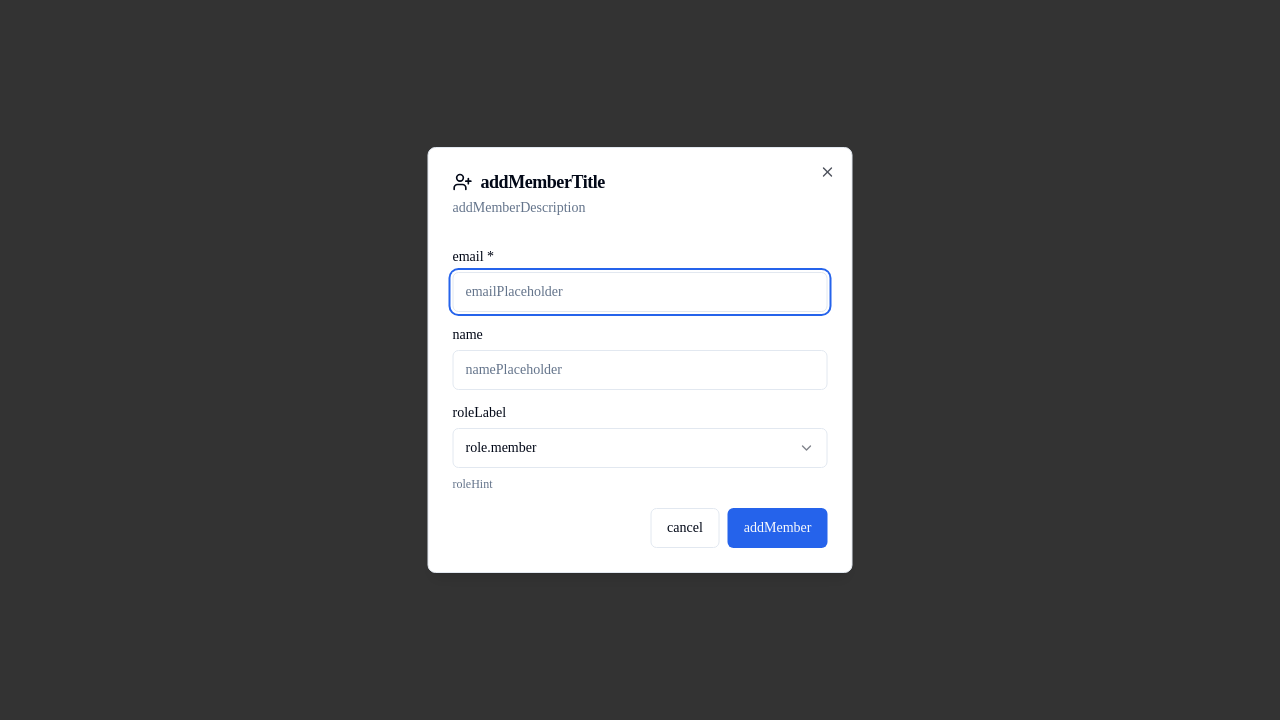
Scenario: AddMemberDialog › Form Validation › should show error for invalid email format
The image size is (1280, 720).
Type "invalid-email" into the field labelled "email *".
click(640, 292); type("invalid-email")  # box [452, 272, 828, 312]
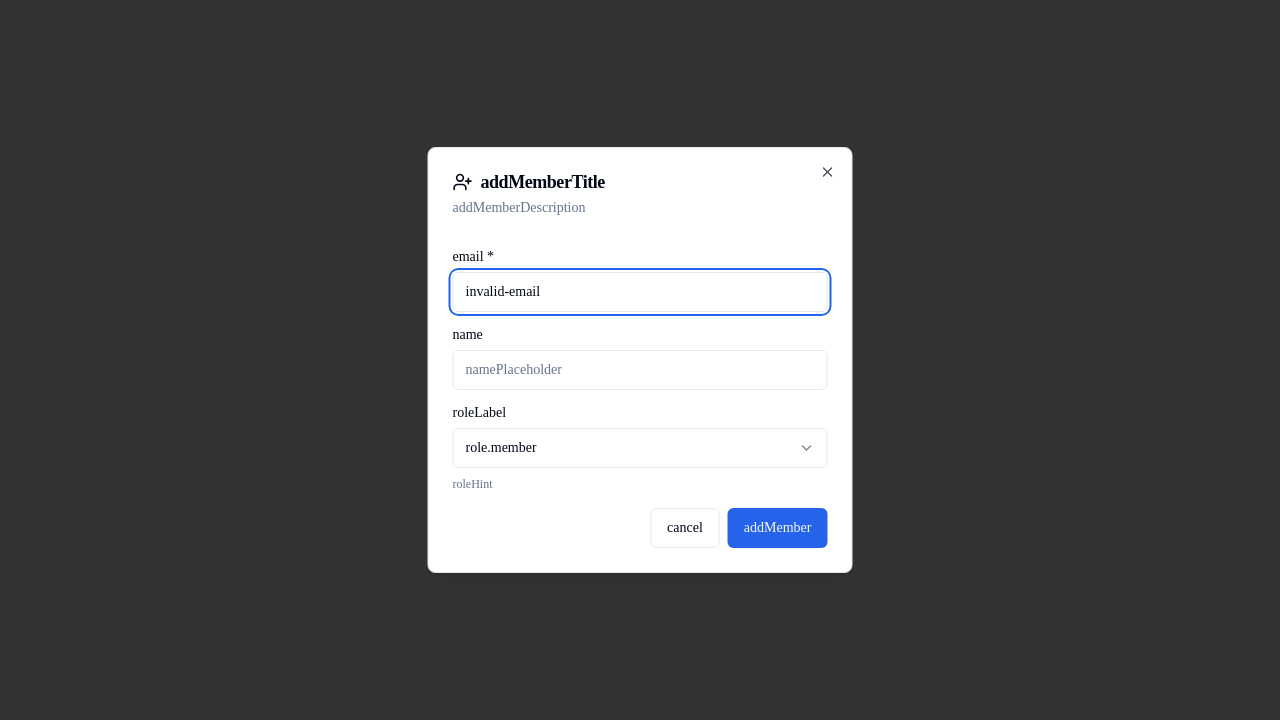
Click the button "addMember".
click(778, 528)  # box [728, 508, 828, 548]
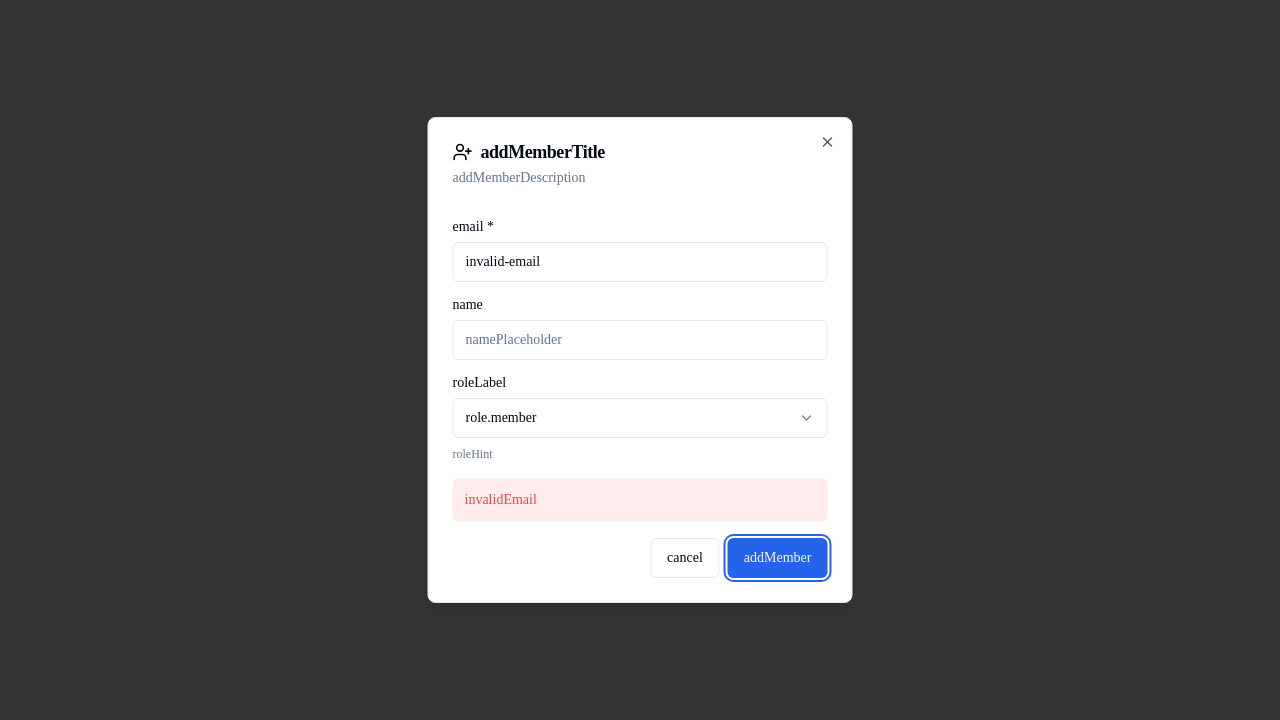
Check: the text "invalidEmail" is shown, box [452, 478, 828, 522]
